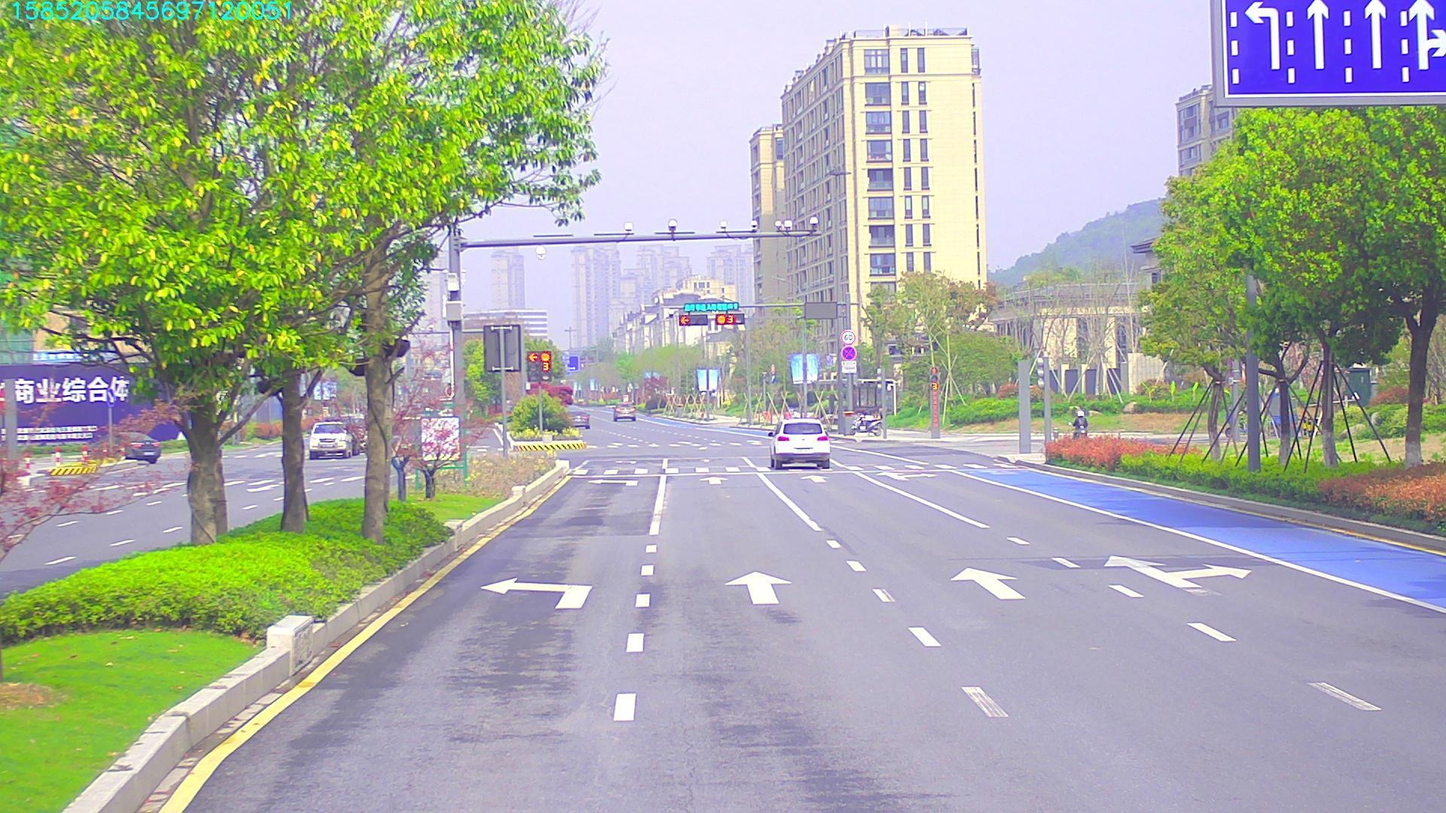red: (678, 312, 711, 327), (715, 315, 743, 322)
wait_on: (686, 303, 734, 311)
